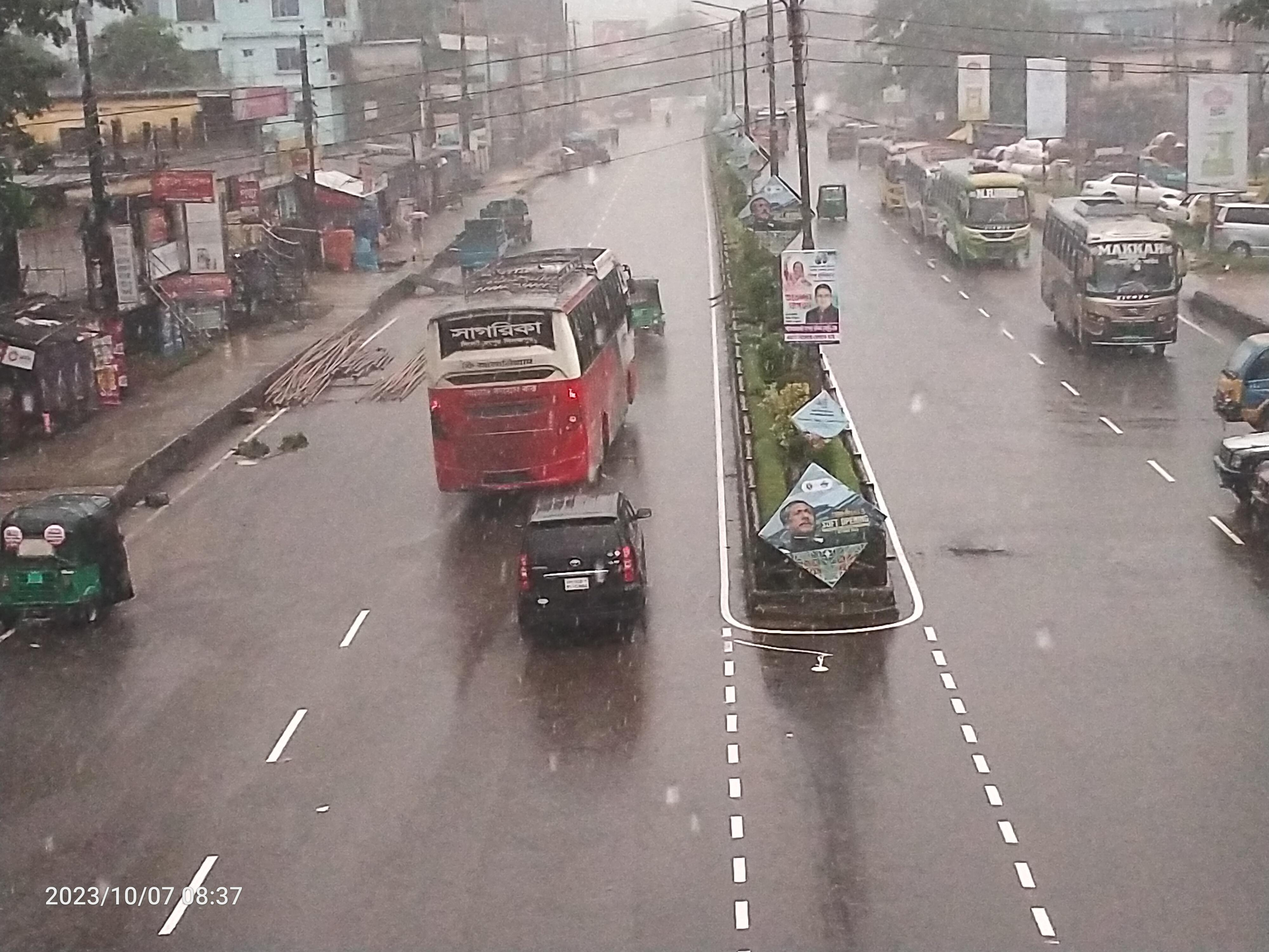Bus: (390, 234, 706, 538), (1026, 166, 1213, 374), (911, 151, 1055, 294), (737, 95, 805, 176)
Car: (488, 453, 675, 664), (1067, 158, 1204, 219), (1195, 190, 1269, 272)
Truck: (1202, 313, 1269, 436), (434, 205, 523, 281)
